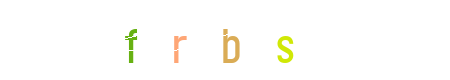B: (185, 0, 265, 80)
F: (91, 0, 171, 80)
R: (178, 0, 258, 80)
S: (245, 0, 325, 80)
